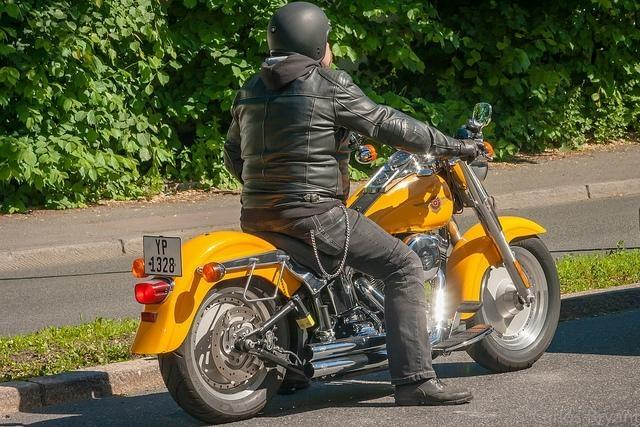motorcycle: (128, 101, 564, 423)
